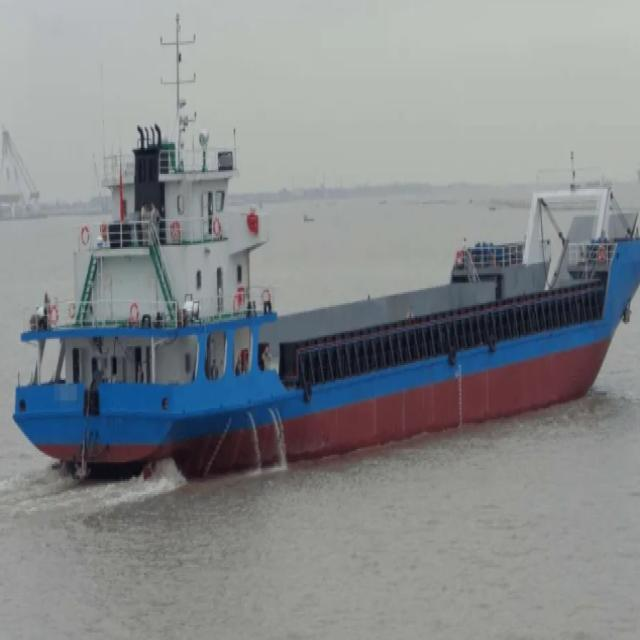fishing boat: (25, 73, 640, 475)
